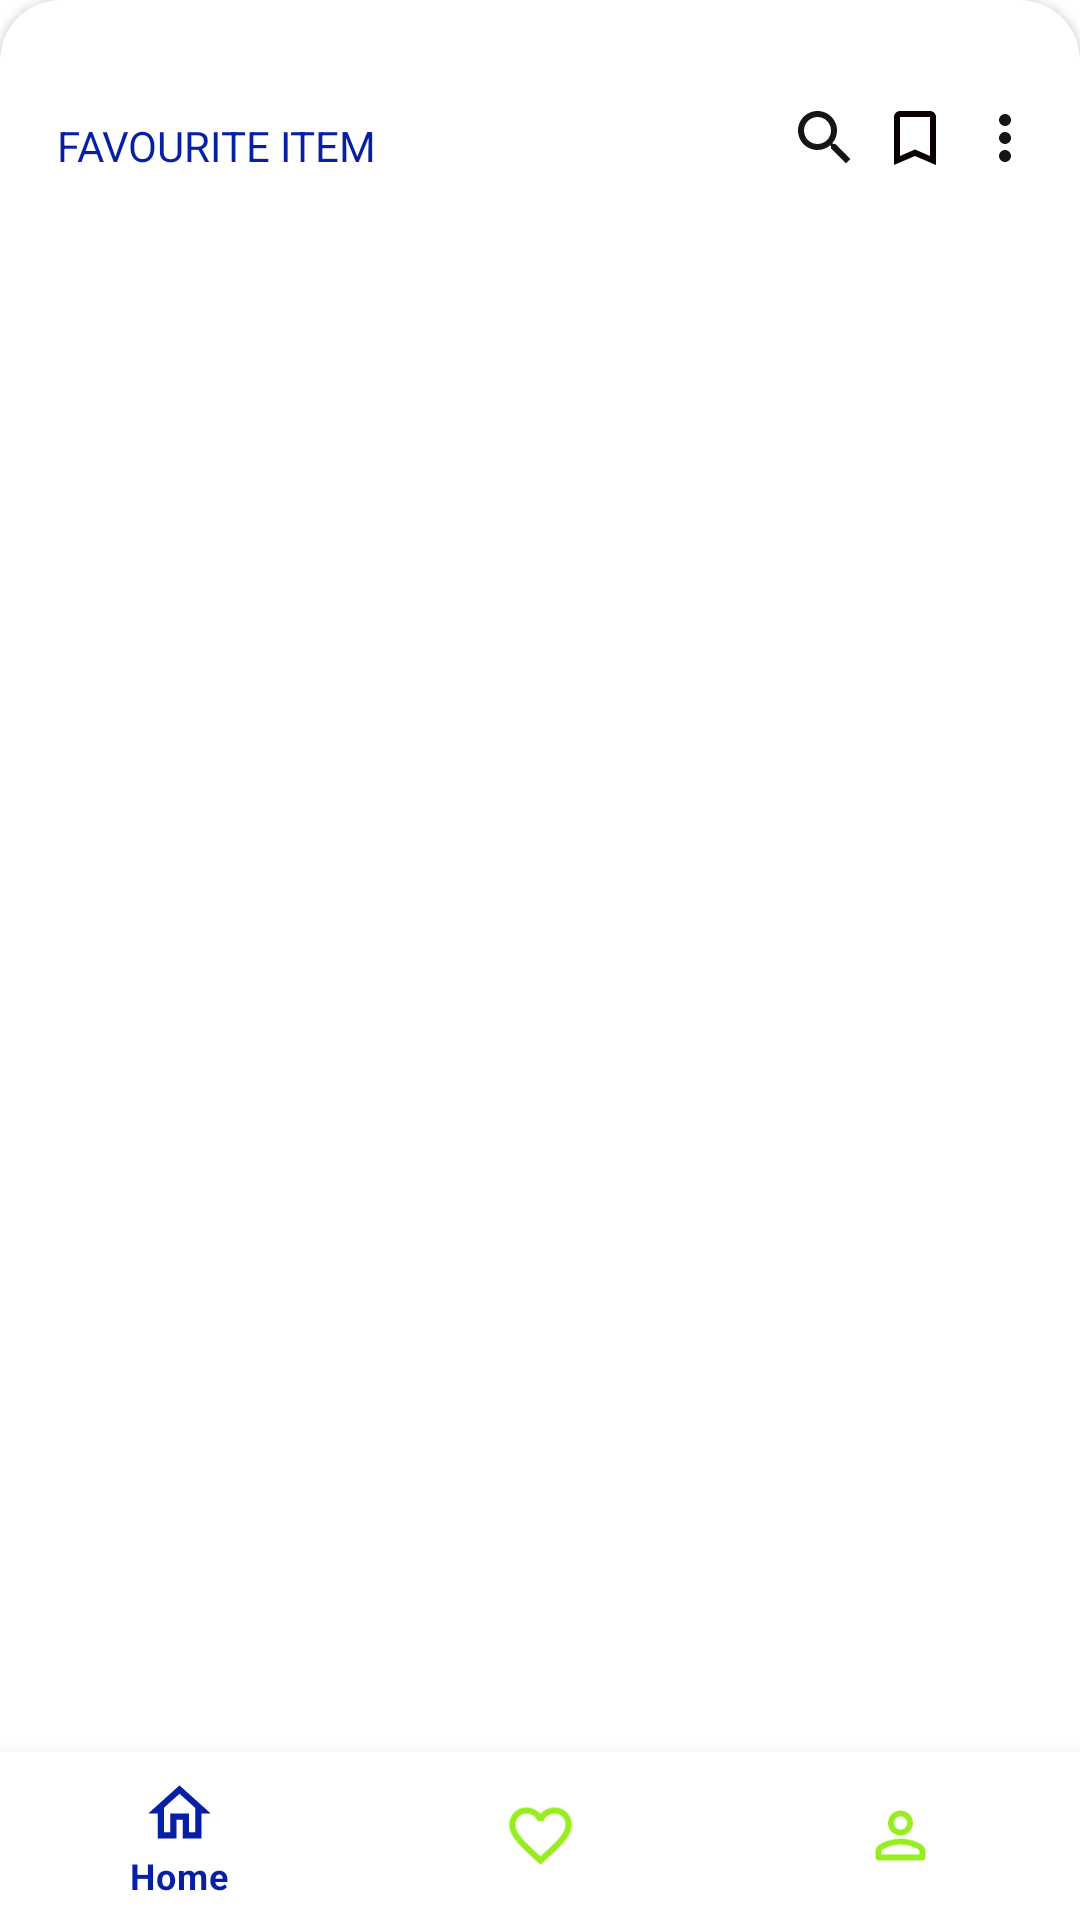

Named icons in this screenshot (1080 x 1920) and their bounding boxes, (left=x1, top=y1, right=x2, bottom=y2):
bookmark border: (left=894, top=111, right=936, bottom=165)
more vert: (left=999, top=114, right=1011, bottom=162)
search: (left=798, top=111, right=850, bottom=163)
